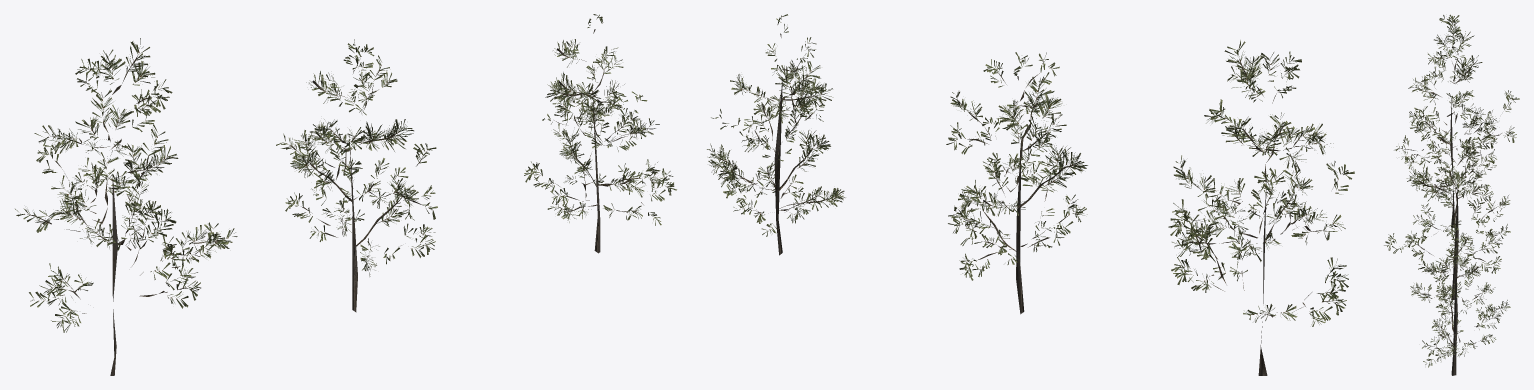
Rendered from pine_sapling.glb.
3 views of the same model, side by side, from view 1: azimuth 30°, elevation 25°; view 2: azimuth 150°, elevation 25°; view 3: azimuth 270°, elevation 25° (orthographic). The views are drawn at different scales.
Parts seen in each view (by area): view 1: pine_sapling_small_a, pine_sapling_small_b, pine_sapling_small_c; view 2: pine_sapling_small_a, pine_sapling_small_b, pine_sapling_small_c; view 3: pine_sapling_small_a, pine_sapling_small_b, pine_sapling_small_c.
Part boxes in pixels (x1,y1,x2,y2): pine_sapling_small_a: (15,38,237,375); pine_sapling_small_b: (276,39,437,312); pine_sapling_small_c: (524,14,676,253); pine_sapling_small_a: (1168,40,1354,375); pine_sapling_small_b: (946,52,1087,314); pine_sapling_small_c: (707,14,845,255); pine_sapling_small_a: (1394,14,1519,227); pine_sapling_small_b: (1384,132,1510,299); pine_sapling_small_c: (1410,225,1510,375).
Size of the model in its own units: 2.62 by 1.29 by 0.7677.
2 materials, 2 textured.
